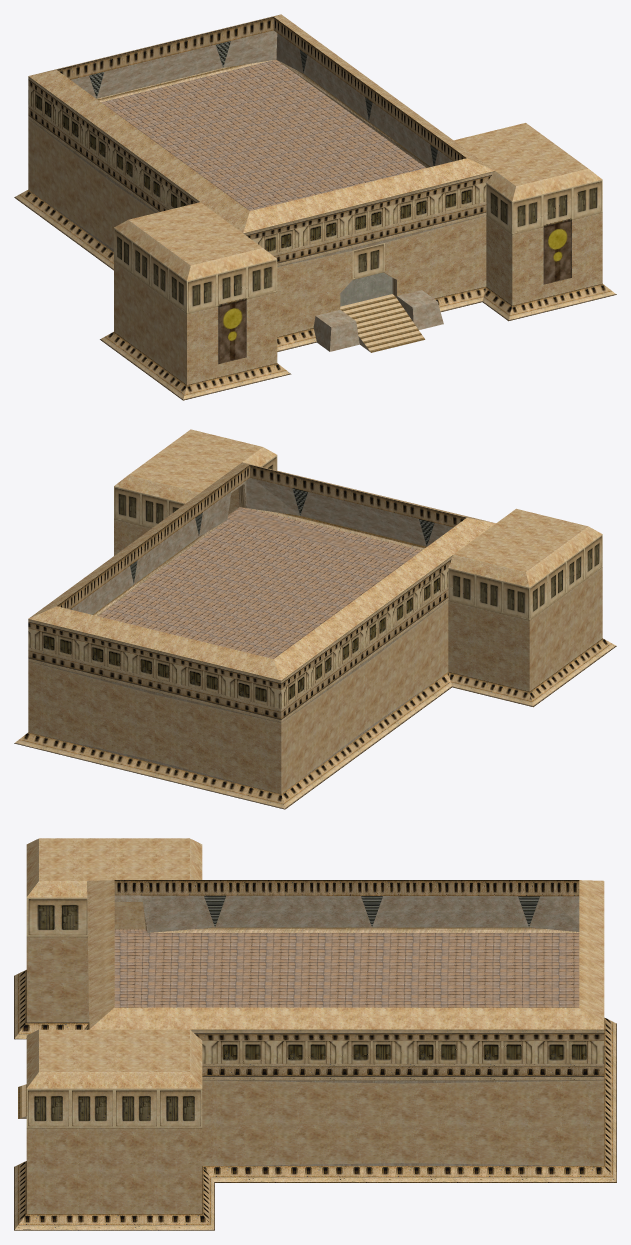
File: ply_tato_assoc_hall_civ_s01_l2.fbx
The picture shows the model from 3 angles, top to bottom: view 1: azimuth 30°, elevation 25°; view 2: azimuth 150°, elevation 25°; view 3: azimuth 270°, elevation 25°; orthographic projection. The views are drawn at different scales.
Visible parts, largest first — view 1: mesh_node; view 2: mesh_node; view 3: mesh_node.
Boxes of the visible parts, <box> form: mesh_node: <box>14,14,616,400</box>; mesh_node: <box>14,429,616,809</box>; mesh_node: <box>14,838,616,1230</box>.
Bounding box in the file's own units: 48 × 14 × 48.
